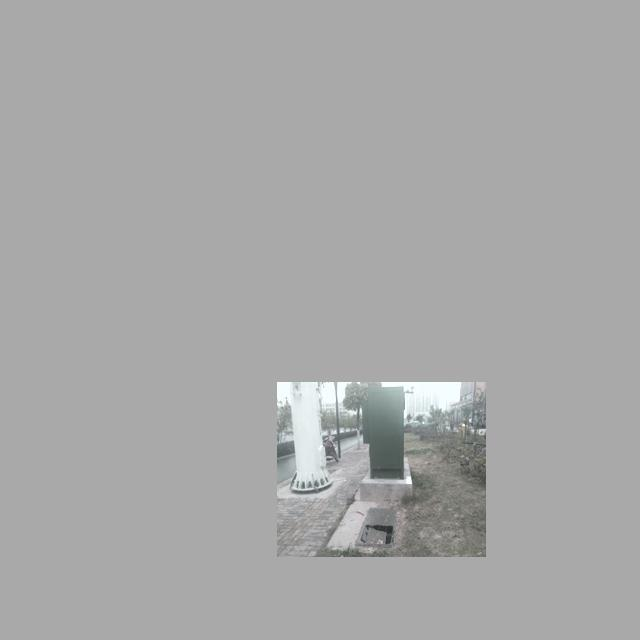broke: (354, 506, 396, 547)
